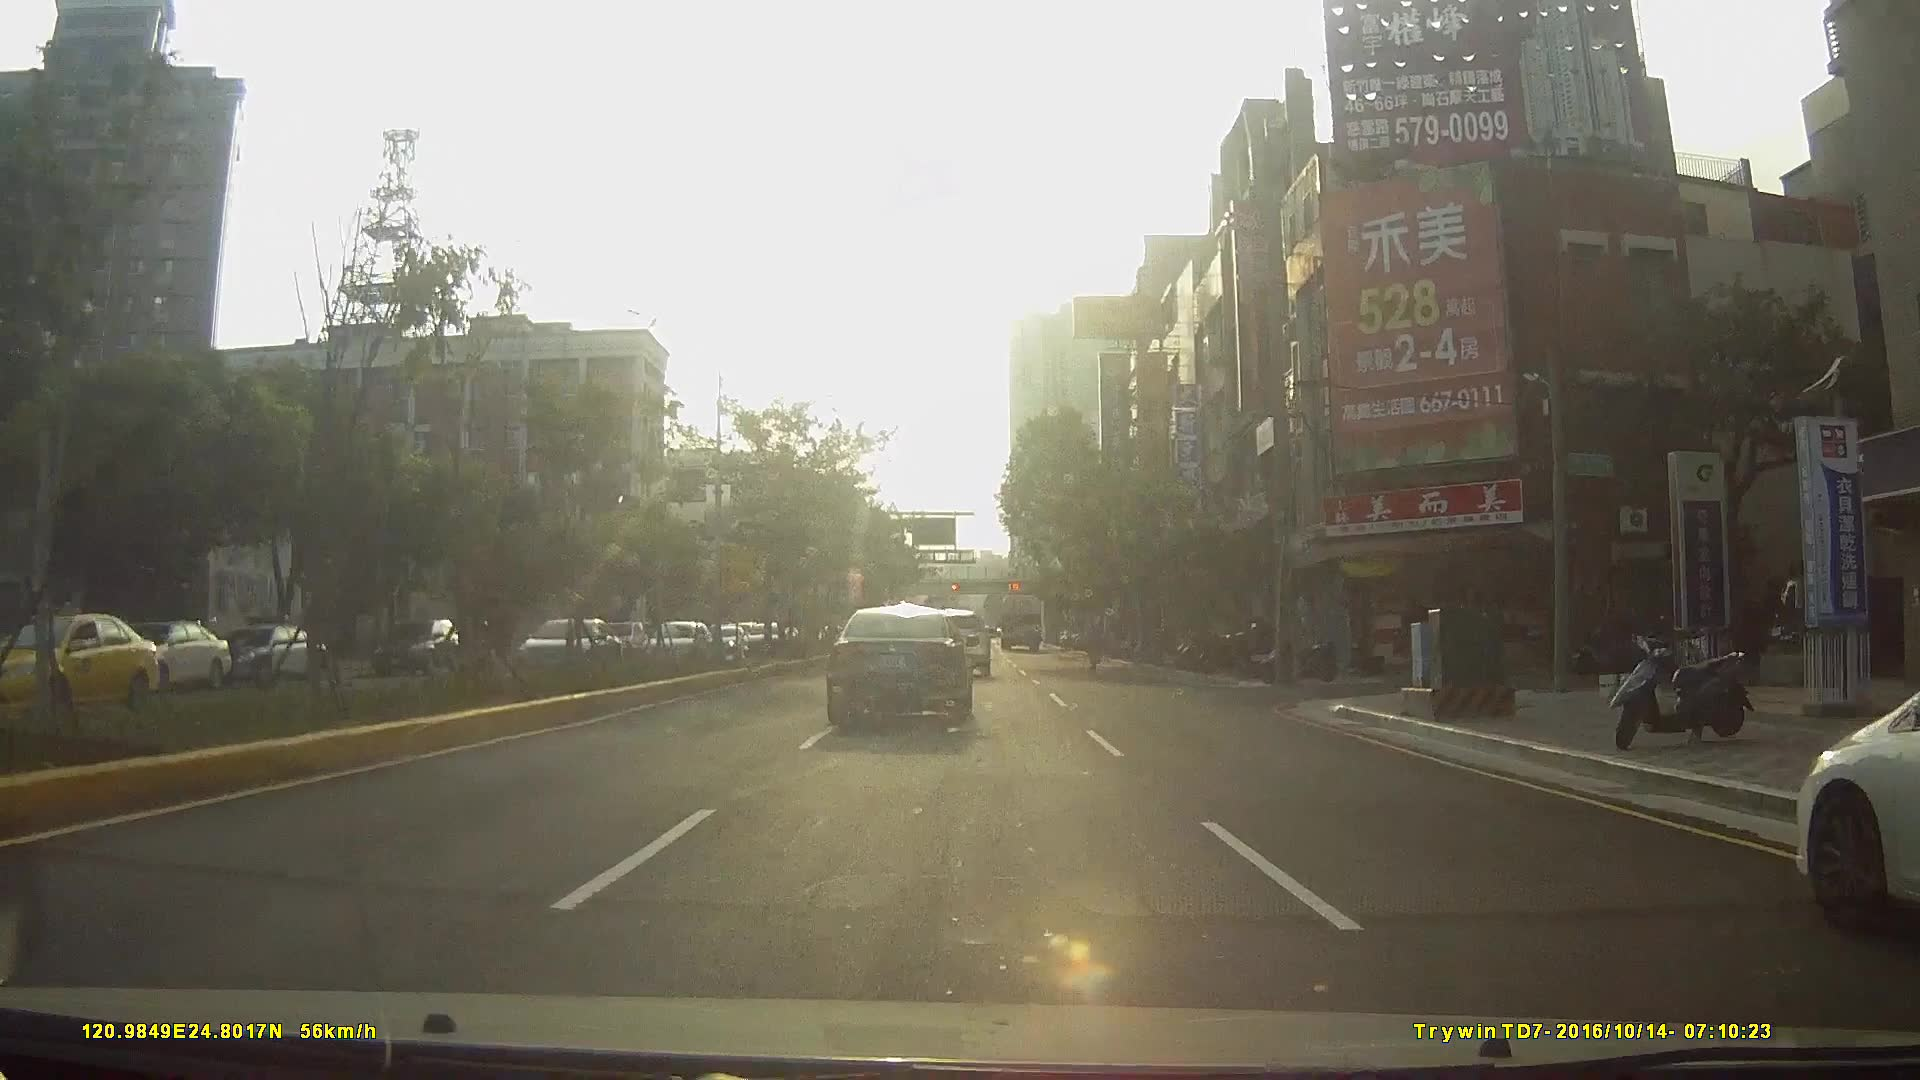vehicle: (1791, 686, 1920, 956), (1, 615, 161, 731), (824, 603, 973, 727), (84, 617, 223, 694), (200, 622, 320, 686), (498, 617, 615, 678), (363, 615, 462, 675), (633, 617, 709, 666), (998, 592, 1044, 654), (593, 620, 638, 659)
